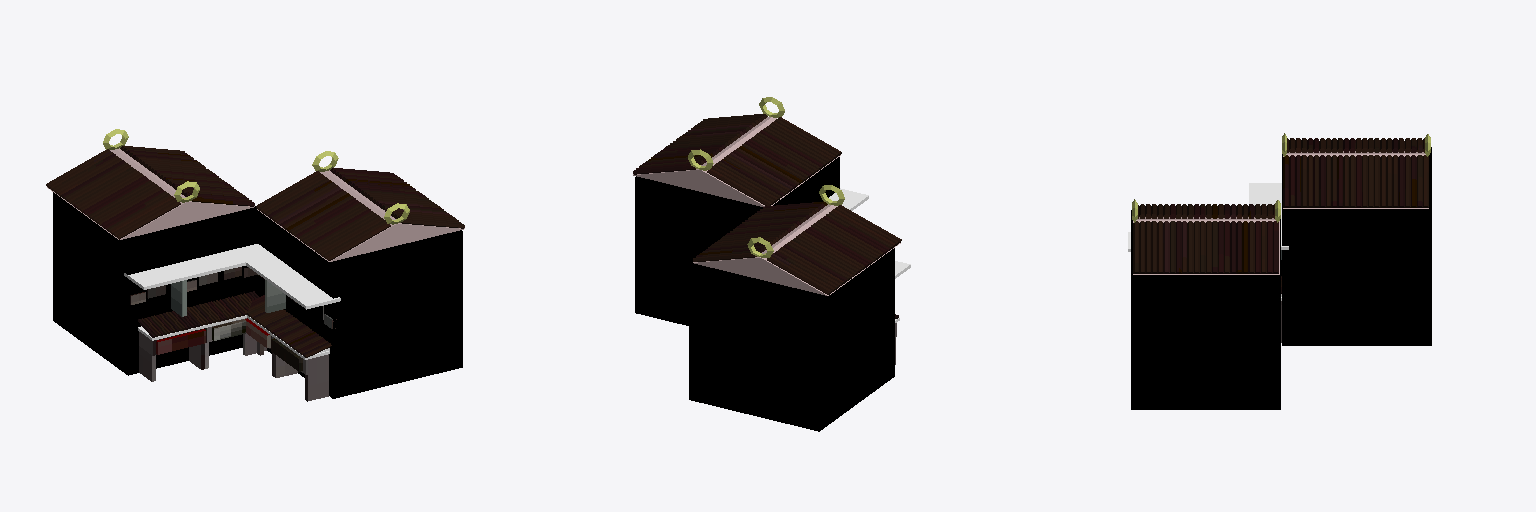
3 views of the same model, side by side, from view 1: azimuth 30°, elevation 25°; view 2: azimuth 150°, elevation 25°; view 3: azimuth 270°, elevation 25° (orthographic).
Visible parts, largest first — view 1: 0000_1010; view 2: 0000_1010; view 3: 0000_1010.
Boxes of the visible parts, <box> form: 0000_1010: <box>46,129,464,401</box>; 0000_1010: <box>633,97,910,431</box>; 0000_1010: <box>1128,133,1431,409</box>.
Size of the model in its own units: 1.05 by 0.6551 by 1.01.
11 materials, 7 textured.